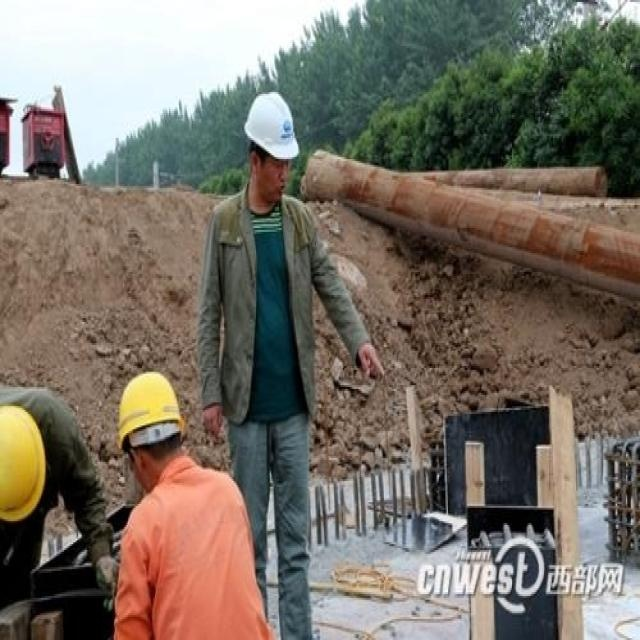Con_Casco: (242, 93, 300, 195)
Sin_Chaleco: (204, 195, 320, 425)
